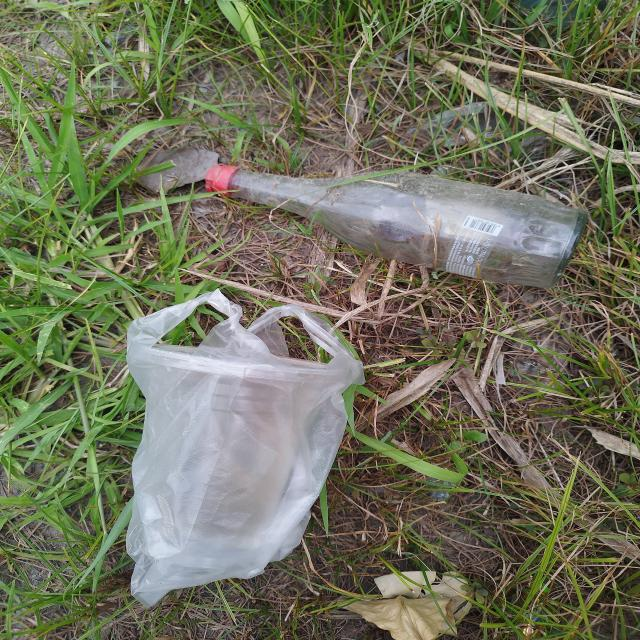bottle: (204, 163, 588, 289)
trash bag: (126, 289, 366, 606)
